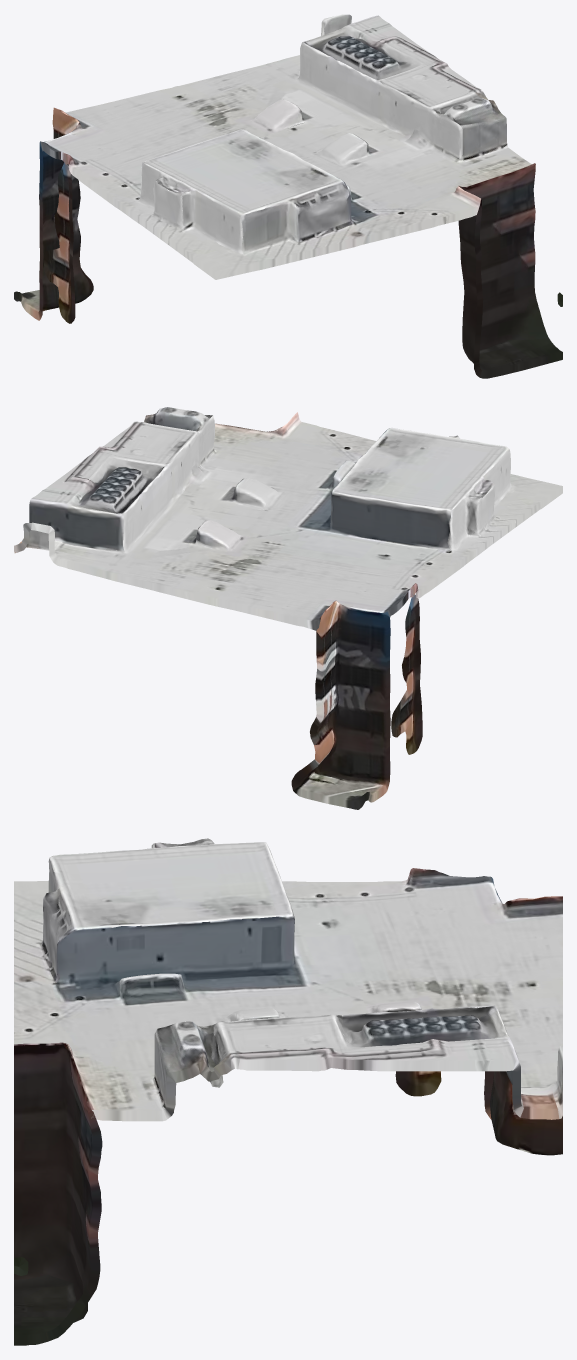
File: z20-167769-405197-h0-yup-uvflip-v3-world.glb
3 renders of one model, top to bottom at view 1: azimuth 30°, elevation 25°; view 2: azimuth 150°, elevation 25°; view 3: azimuth 270°, elevation 25°, orthographic. The views are drawn at different scales.
Size of the model in its own units: 30.16 by 18.52 by 30.32.
1 material, 1 textured.
